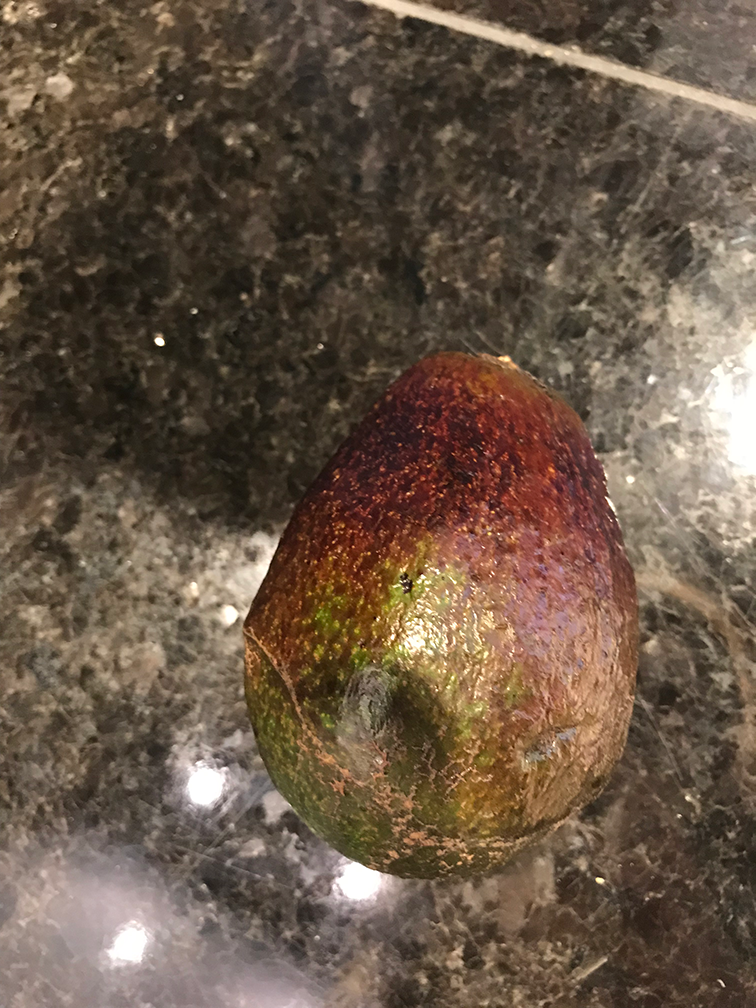avocado: (237, 338, 649, 889)
